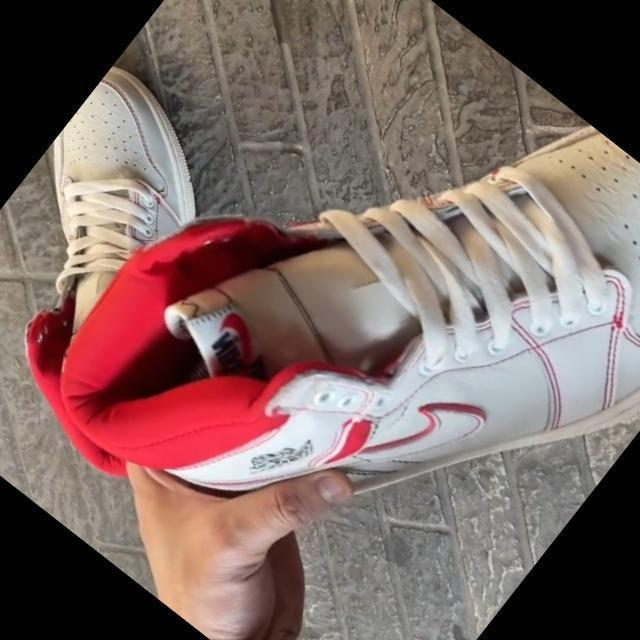nike fake jordan 1: (22, 0, 640, 640), (0, 58, 268, 428)
